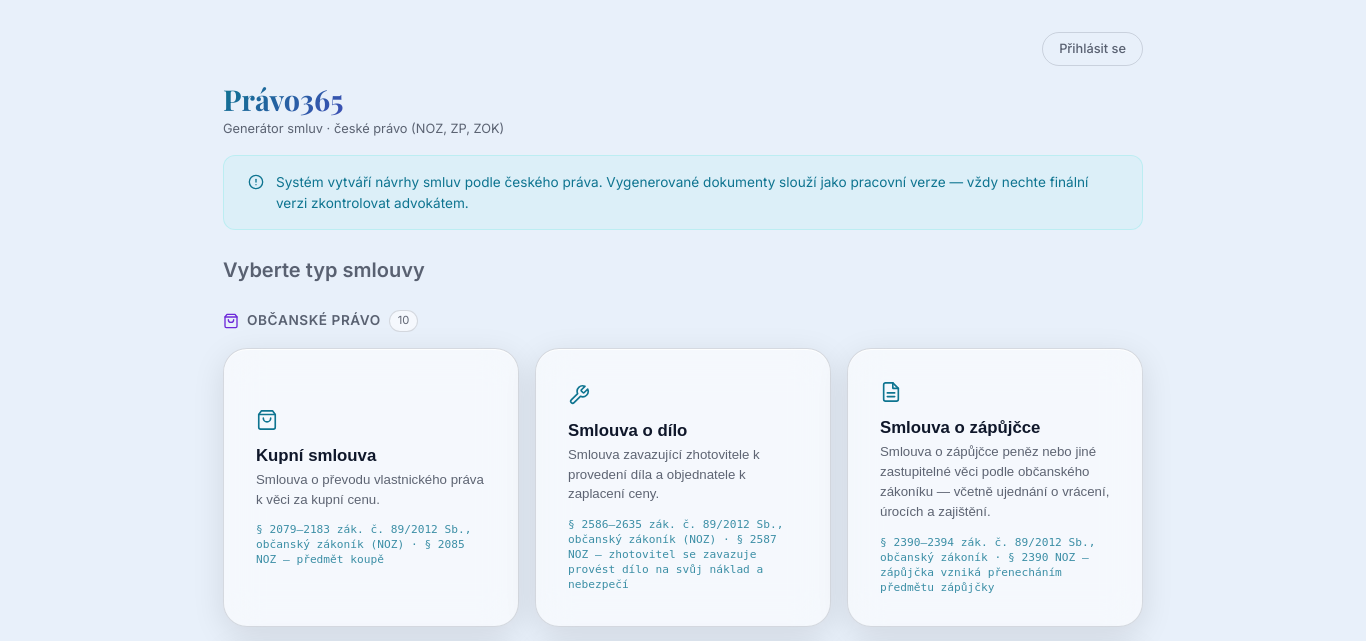
2 — Navigation to form › form has "Kupující" party section
The width and height of the screenshot is (1366, 641).
Click the button "Kupní smlouva" at [371, 488], box [223,348,519,627]
(page scrolled)
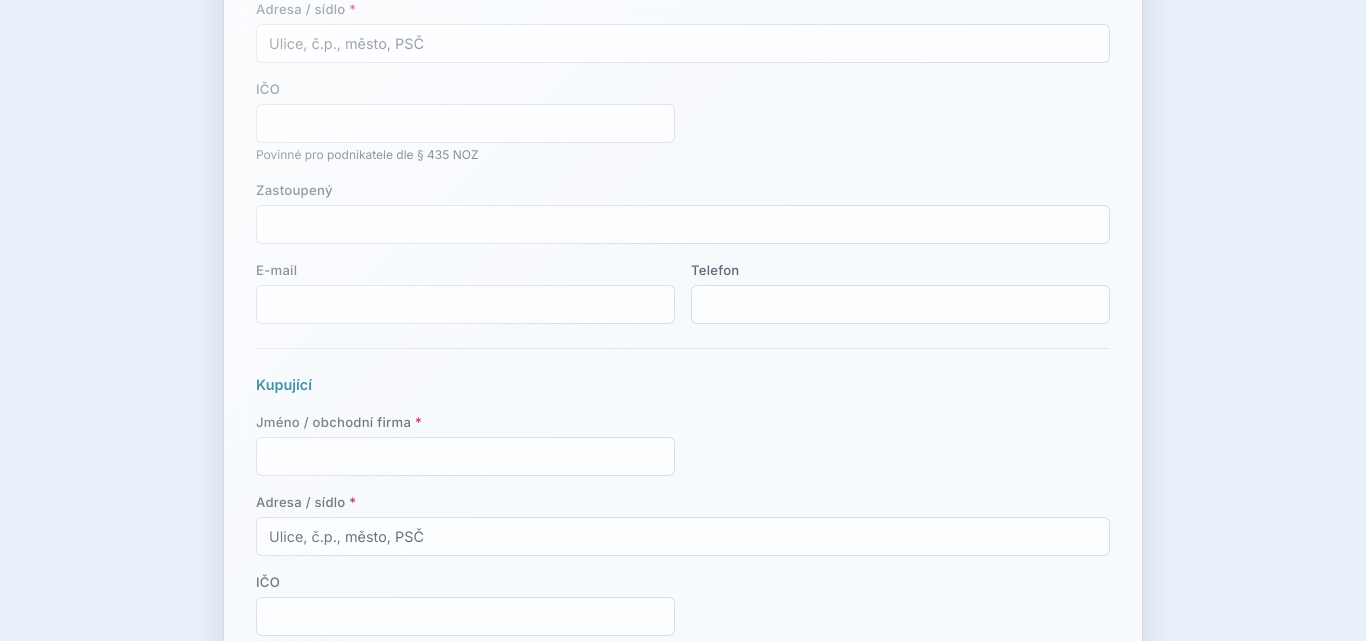
expect the text "Kupující" is shown: met, box [256,376,312,393]
